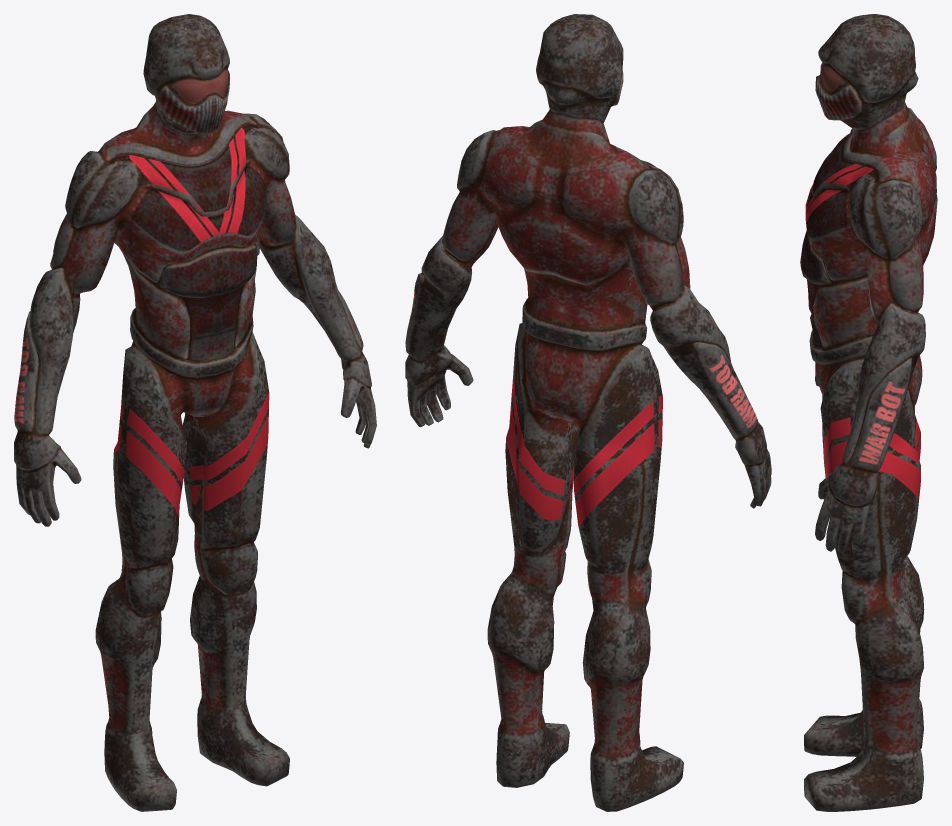
Rendered from humanoid_robot_v3.glb.
3 views of the same model, side by side, from view 1: azimuth 30°, elevation 25°; view 2: azimuth 150°, elevation 25°; view 3: azimuth 270°, elevation 25° (orthographic).
Visible parts, largest first — view 1: CHR_R_redBetsu; view 2: CHR_R_redBetsu; view 3: CHR_R_redBetsu.
Boxes of the visible parts, box(x1,y1,x2,y2) form: CHR_R_redBetsu: box(14, 14, 376, 811); CHR_R_redBetsu: box(405, 14, 771, 811); CHR_R_redBetsu: box(800, 14, 937, 811).
Bounding box in the file's own units: 96.79 × 200 × 32.83.
Materials: 1 (1 with a texture image).
